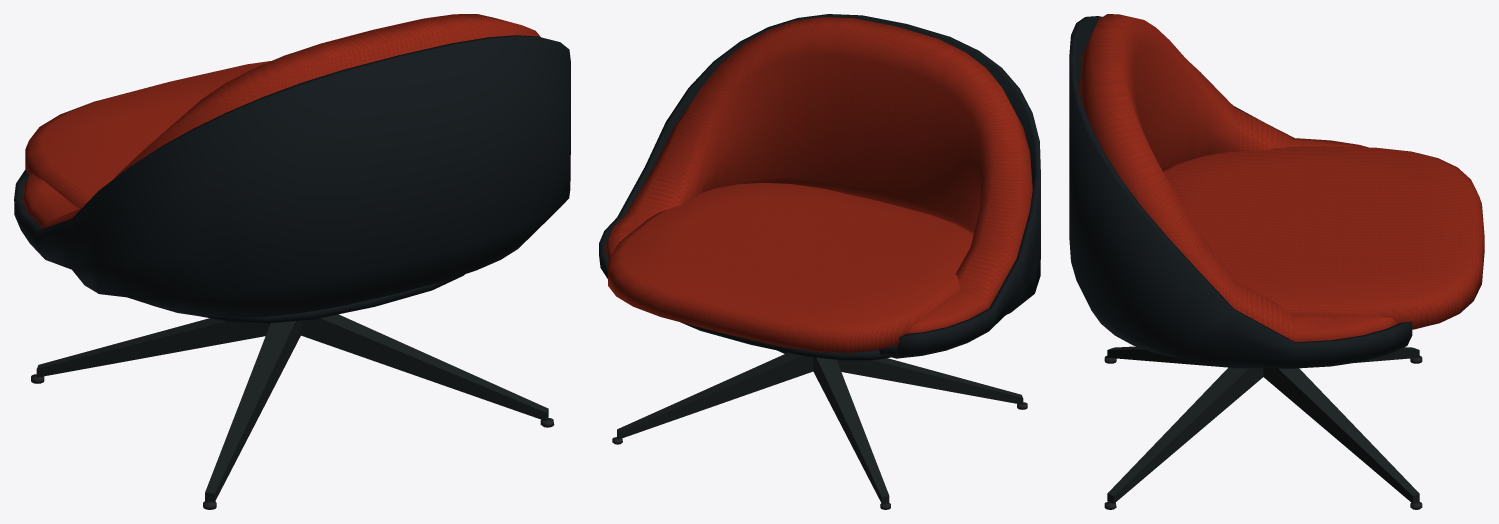
3 renders of one model, left to right at view 1: azimuth 30°, elevation 25°; view 2: azimuth 150°, elevation 25°; view 3: azimuth 270°, elevation 25°, orthographic. The views are drawn at different scales.
Visible parts, largest first — view 1: Charcoal outer backing with rolled front ends, Thick upholstered back and descending side wings, Concealed central seat support; view 2: Thick upholstered back and descending side wings, Charcoal outer backing with rolled front ends, Concealed central seat support; view 3: Thick upholstered back and descending side wings, Charcoal outer backing with rolled front ends, Concealed central seat support.
Boxes of the visible parts, bbox=[...] form: Charcoal outer backing with rolled front ends: bbox=[14, 35, 570, 323]; Thick upholstered back and descending side wings: bbox=[22, 14, 540, 228]; Concealed central seat support: bbox=[36, 314, 548, 502]; Thick upholstered back and descending side wings: bbox=[605, 17, 1032, 352]; Charcoal outer backing with rolled front ends: bbox=[599, 14, 1040, 360]; Concealed central seat support: bbox=[617, 350, 1023, 503]; Thick upholstered back and descending side wings: bbox=[1079, 14, 1484, 342]; Charcoal outer backing with rolled front ends: bbox=[1069, 16, 1412, 368]; Concealed central seat support: bbox=[1107, 346, 1419, 503].
Size of the model in its own units: 0.9718 by 0.8428 by 0.829.
Materials: 4 (1 with a texture image).
